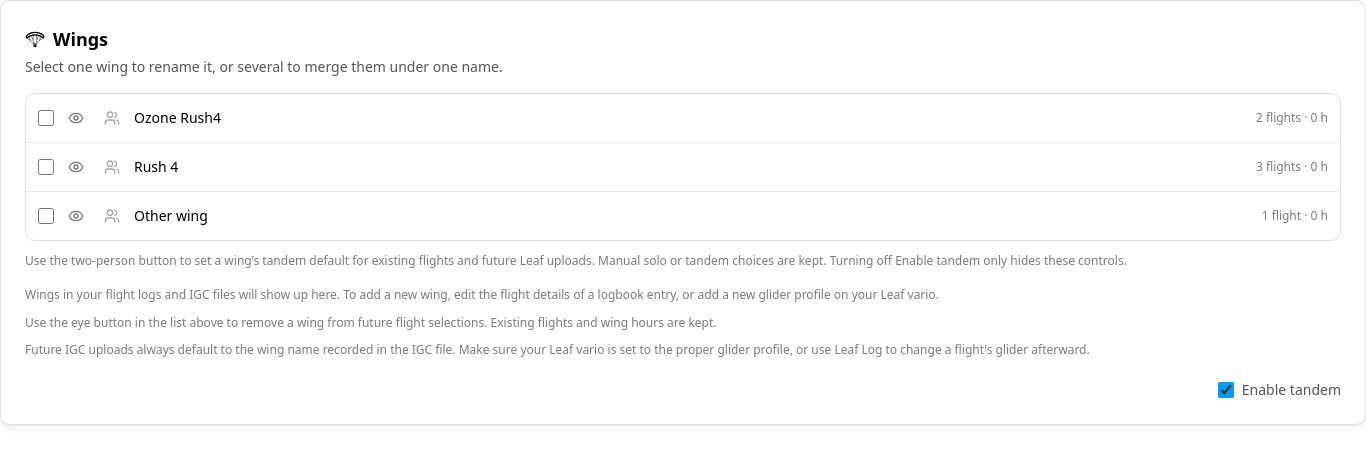
it: reports tandem save failures and allows retrying
The width and height of the screenshot is (1366, 476).
Click the switch named "Tandem wing: Rush 4": (112, 167) x1=98 y1=153 x2=126 y2=181
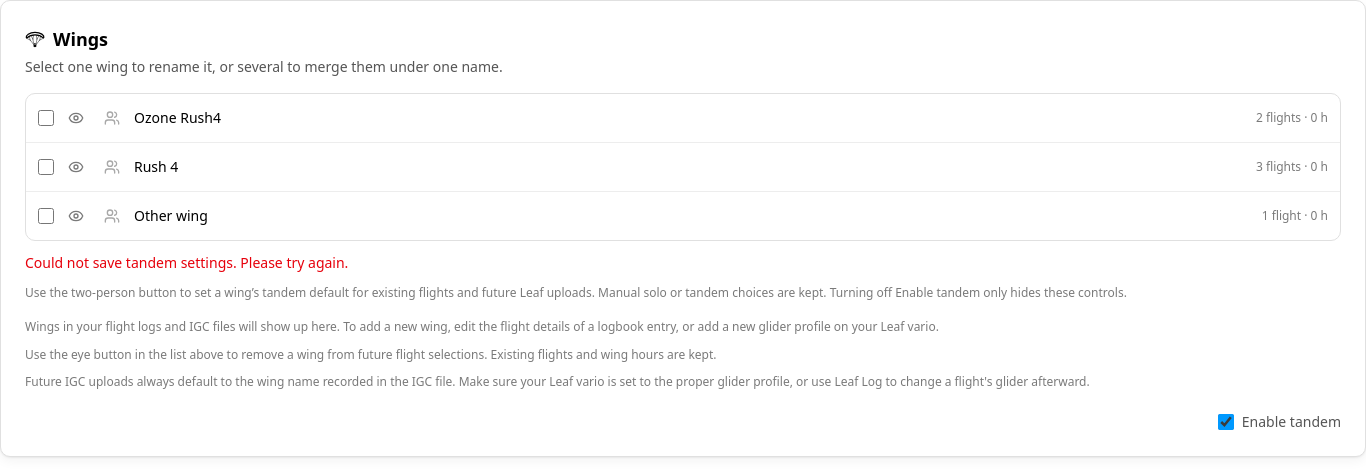
Now the message shows "Could not save tandem settings", box x1=25 y1=253 x2=348 y2=272
